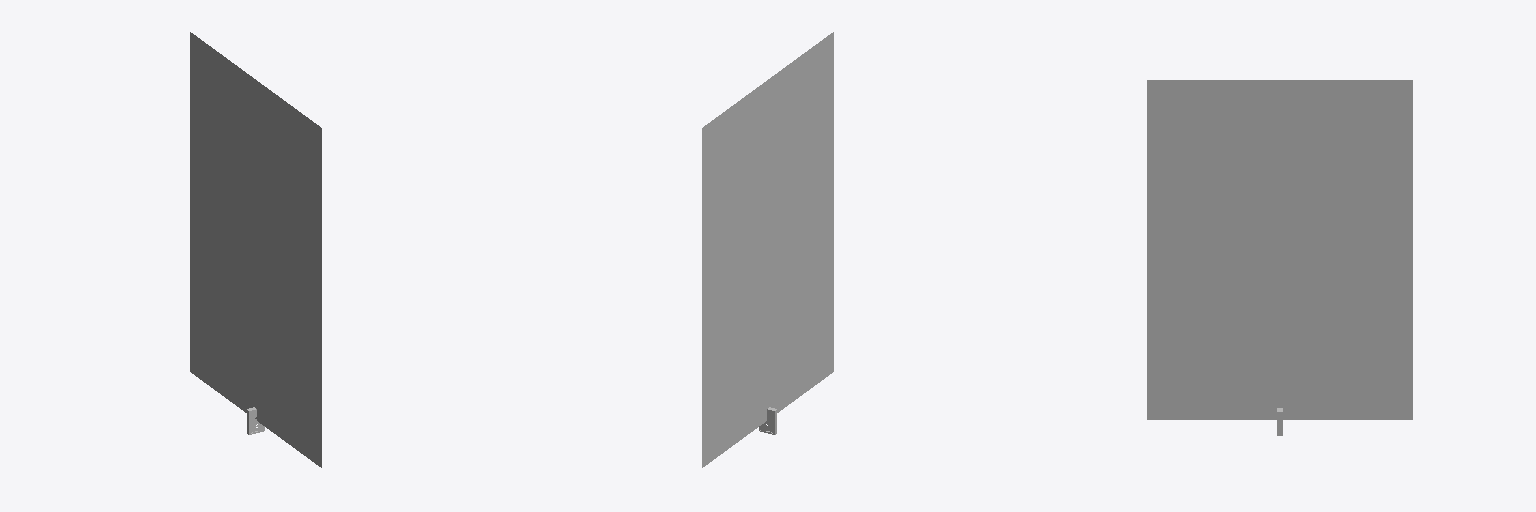
The picture shows the model from 3 angles: view 1: azimuth 30°, elevation 25°; view 2: azimuth 150°, elevation 25°; view 3: azimuth 270°, elevation 25°; orthographic projection.
Parts seen in each view (by area): view 1: Mesh7 Model; view 2: Mesh7 Model; view 3: Mesh7 Model.
Part boxes in pixels (bbox=[...]): Mesh7 Model: bbox=[190, 32, 321, 467]; Mesh7 Model: bbox=[702, 32, 833, 467]; Mesh7 Model: bbox=[1147, 80, 1412, 419].
Size of the model in its own units: 0.707 by 14.64 by 10.